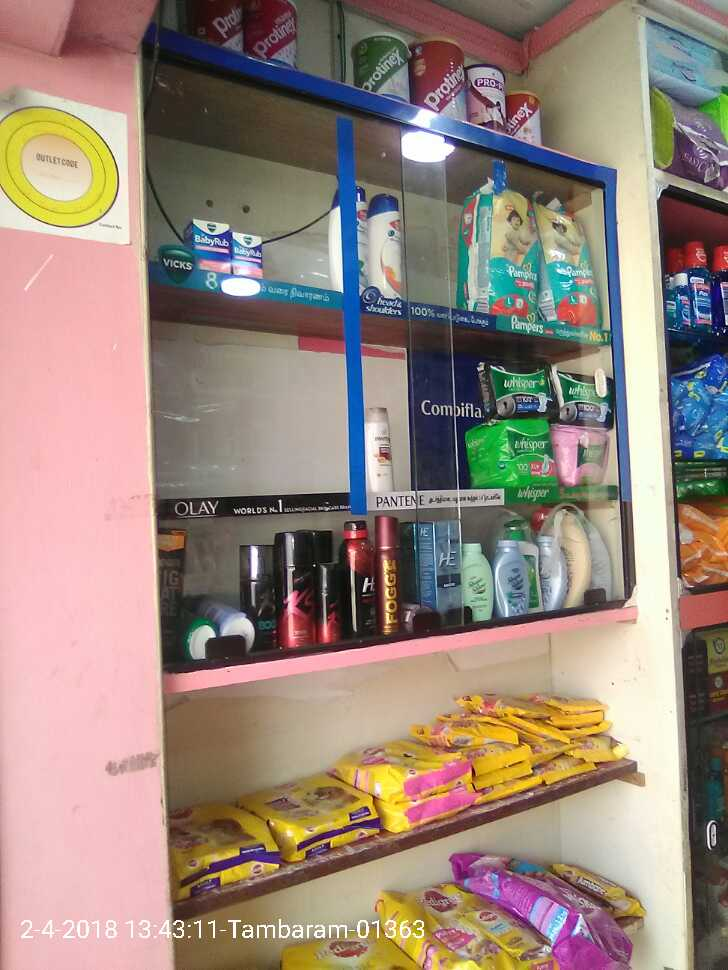vicks: (190, 216, 231, 272), (231, 233, 267, 272)
